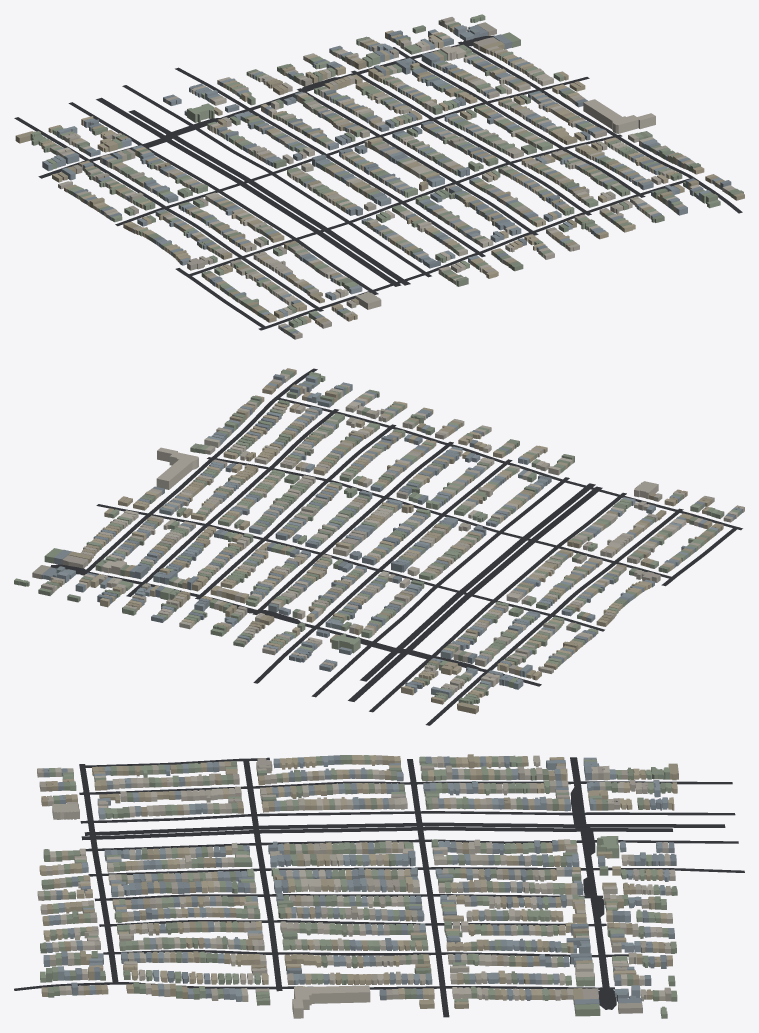
The model's file is tile_3_15.glb.
The picture shows the model from 3 angles, top to bottom: view 1: azimuth 30°, elevation 25°; view 2: azimuth 150°, elevation 25°; view 3: azimuth 270°, elevation 25°; orthographic projection. The views are drawn at different scales.
Visible parts, largest first — view 1: bld_3_15, road_3_15; view 2: bld_3_15, road_3_15; view 3: bld_3_15, road_3_15.
Part boxes in pixels (box(x1,y1,x2,y2)): bld_3_15: box(15, 14, 744, 339); road_3_15: box(14, 35, 742, 330); bld_3_15: box(14, 368, 744, 714); road_3_15: box(50, 368, 742, 725); bld_3_15: box(37, 754, 678, 1018); road_3_15: box(14, 757, 744, 1017).
Bounding box in the file's own units: 847 × 62.15 × 922.
